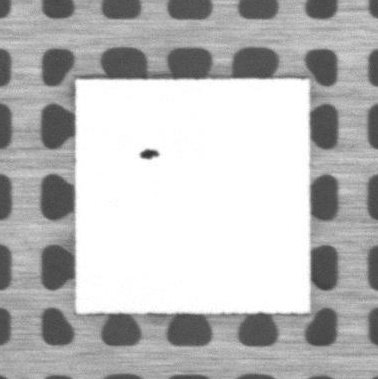DIE_INK: (138, 149, 165, 161)
